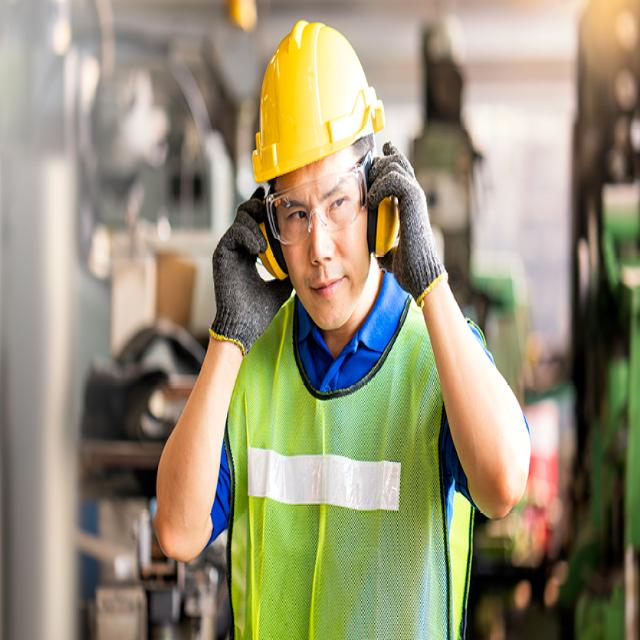goggles: (259, 176, 368, 250)
helmet: (246, 18, 396, 184)
vest: (223, 289, 479, 640)
